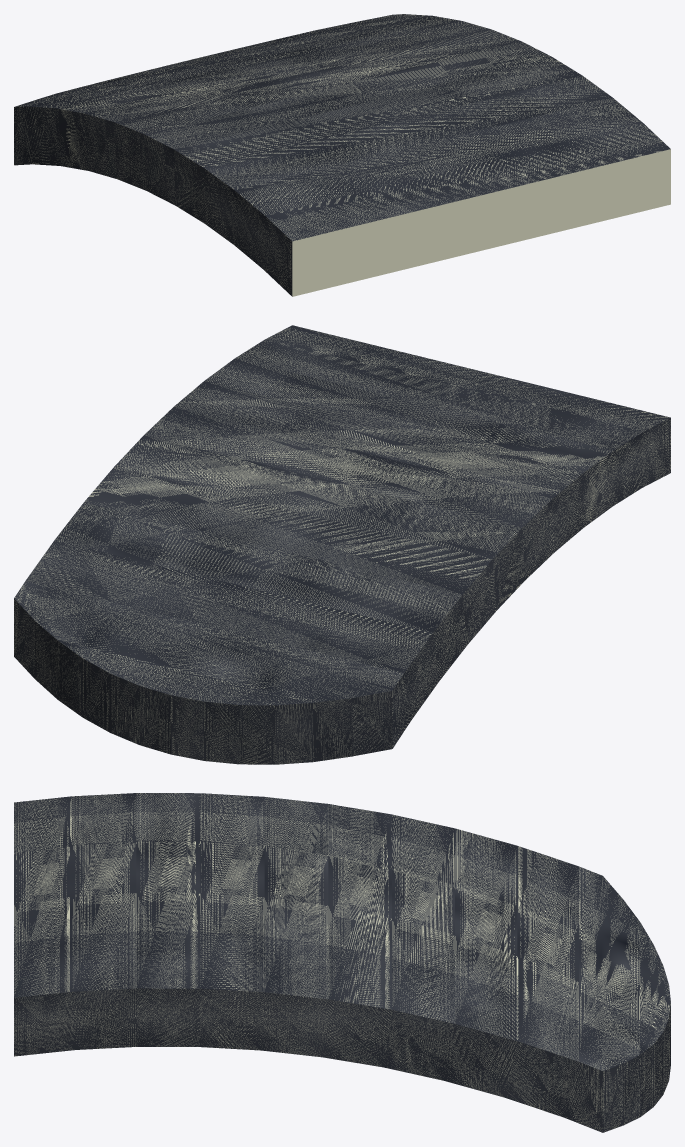
File: original-4.obj
The picture shows the model from 3 angles, top to bottom: view 1: azimuth 30°, elevation 25°; view 2: azimuth 150°, elevation 25°; view 3: azimuth 270°, elevation 25°; orthographic projection. The views are drawn at different scales.
Visible parts, largest first — view 1: mesh4/mesh4-geometry#mesh4-geometry; view 2: mesh4/mesh4-geometry#mesh4-geometry; view 3: mesh4/mesh4-geometry#mesh4-geometry.
Part boxes in pixels (left/top/right/bottom): mesh4/mesh4-geometry#mesh4-geometry: left=14, top=14, right=670, bottom=296; mesh4/mesh4-geometry#mesh4-geometry: left=14, top=325, right=670, bottom=764; mesh4/mesh4-geometry#mesh4-geometry: left=14, top=793, right=670, bottom=1132.
Bounding box in the file's own units: 0.0865 × 0.036 × 0.1228.
